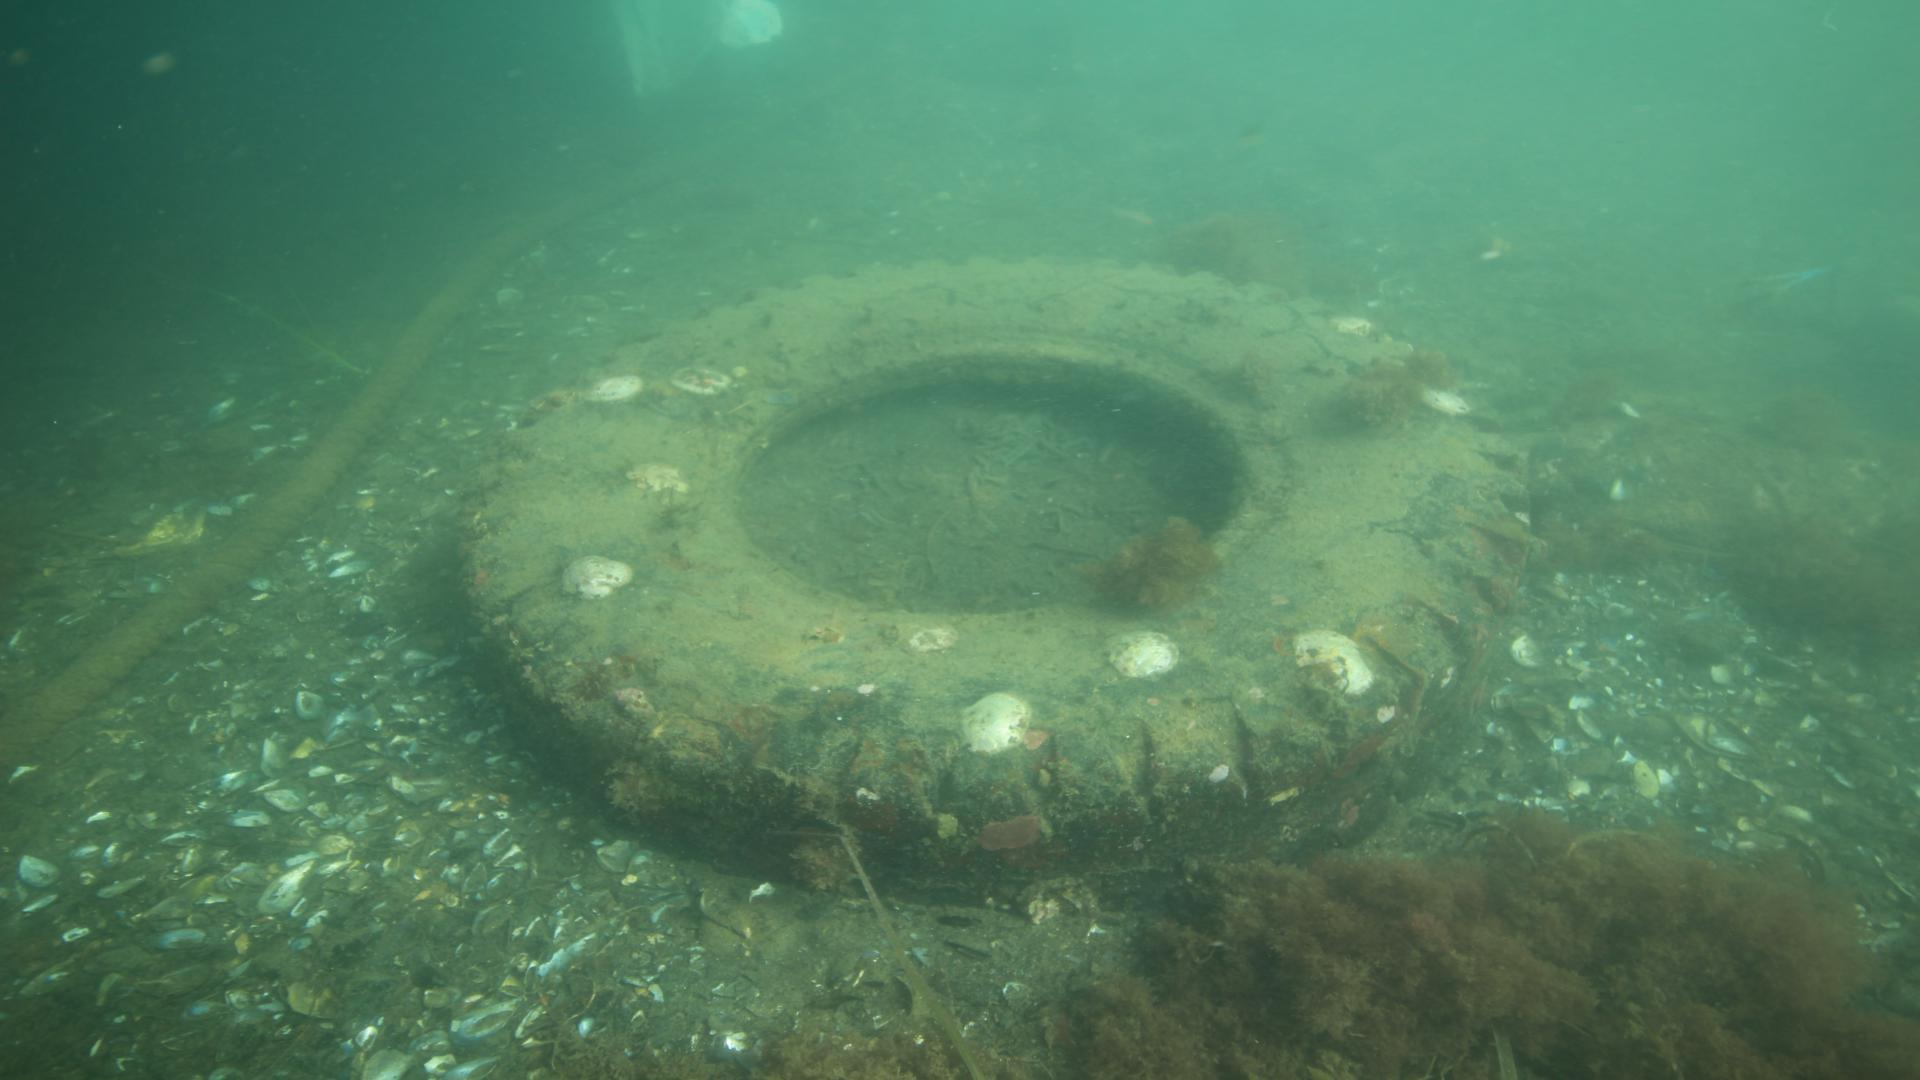rope: (0, 223, 533, 775)
tire: (455, 255, 1539, 905)
